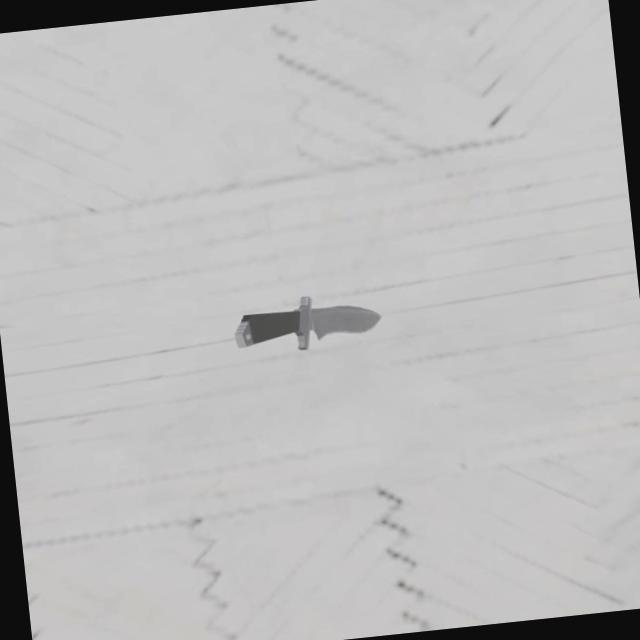knife: (244, 310, 300, 343)
